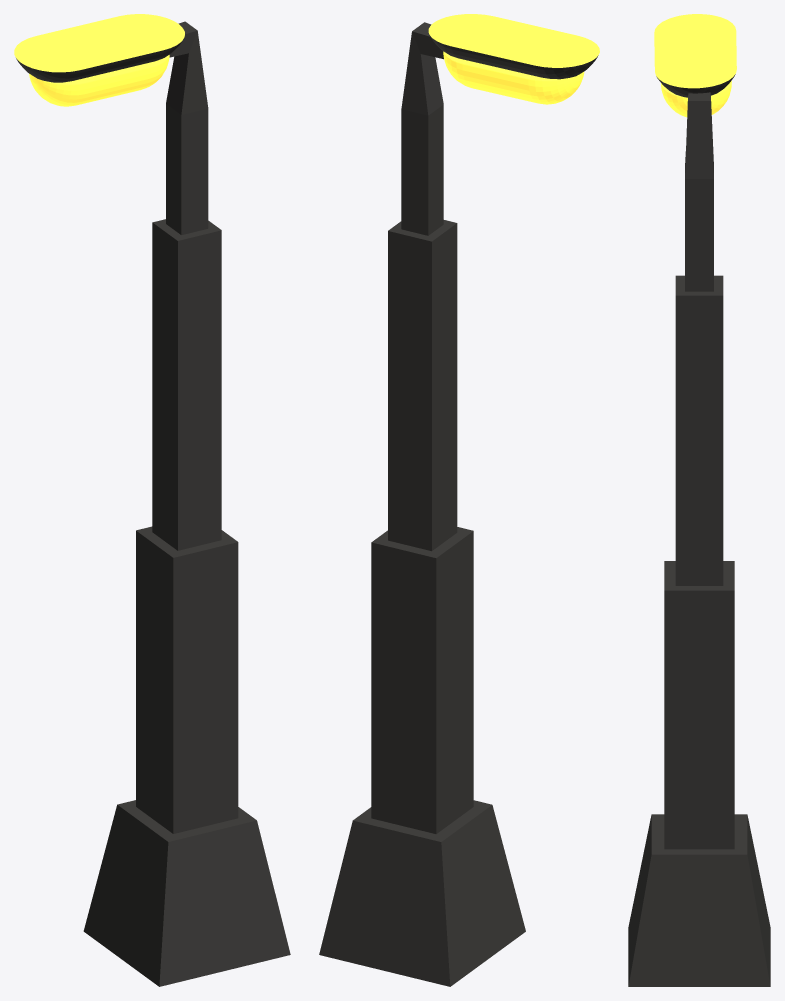
The model's file is light.fbx.
3 views of the same model, side by side, from view 1: azimuth 30°, elevation 25°; view 2: azimuth 150°, elevation 25°; view 3: azimuth 270°, elevation 25° (orthographic). The views are drawn at different scales.
Parts seen in each view (by area): view 1: Light_1; view 2: Light_1; view 3: Light_1.
Boxes of the visible parts, bbox=[...] form: Light_1: bbox=[14, 14, 290, 986]; Light_1: bbox=[319, 14, 599, 986]; Light_1: bbox=[628, 14, 770, 986].
Size of the model in its own units: 36.89 by 139 by 20.61.
